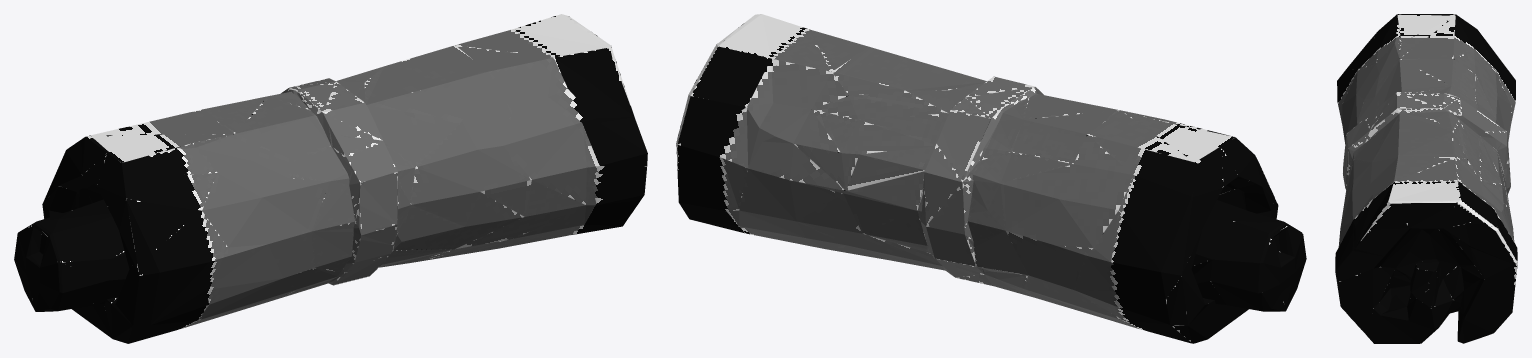
3 renders of one model, left to right at view 1: azimuth 30°, elevation 25°; view 2: azimuth 150°, elevation 25°; view 3: azimuth 270°, elevation 25°, orthographic. The views are drawn at different scales.
Parts seen in each view (by area): view 1: OBJ13f; view 2: OBJ13f; view 3: OBJ13f.
Part boxes in pixels (<box>): OBJ13f: <box>14,14,647,343</box>; OBJ13f: <box>676,14,1306,343</box>; OBJ13f: <box>1335,14,1517,343</box>.
Bounding box in the file's own units: 0.3312 × 0.0986 × 0.1141.
Materials: 1 (1 with a texture image).
